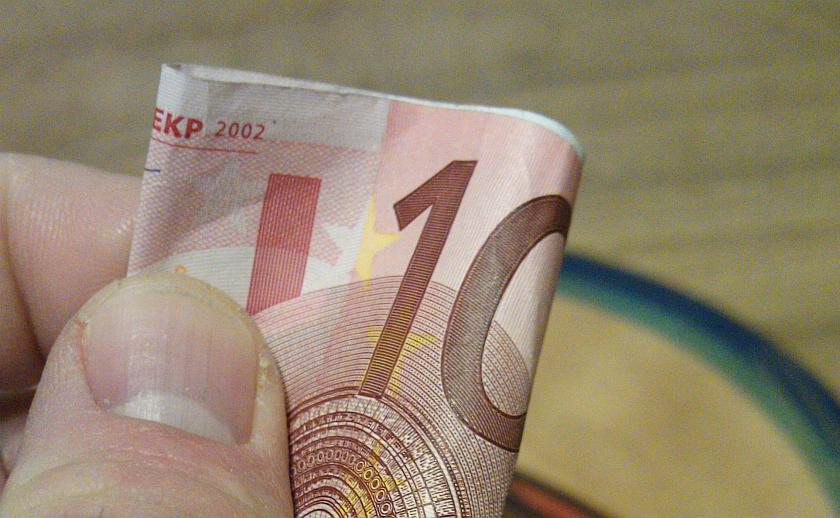billete: (121, 55, 589, 518)
